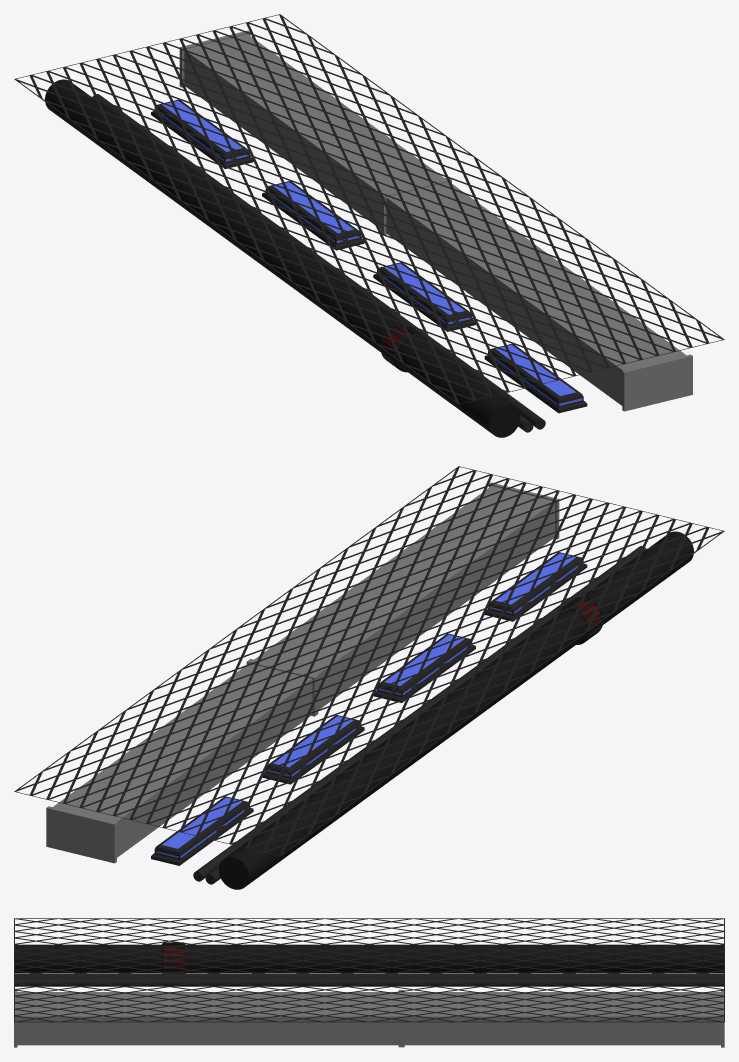
The model's file is Floor Grates.fbx.
3 views of the same model, one above another, from view 1: azimuth 30°, elevation 25°; view 2: azimuth 150°, elevation 25°; view 3: azimuth 270°, elevation 25° (orthographic). The views are drawn at different scales.
Visible parts, largest first — view 1: hallway pipes; view 2: hallway pipes; view 3: hallway pipes.
Part boxes in pixels (x1,y1,x2,y2): hallway pipes: (14,14,724,437); hallway pipes: (14,466,724,889); hallway pipes: (14,918,724,1047).
Bounding box in the file's own units: 138 × 25.59 × 400.
